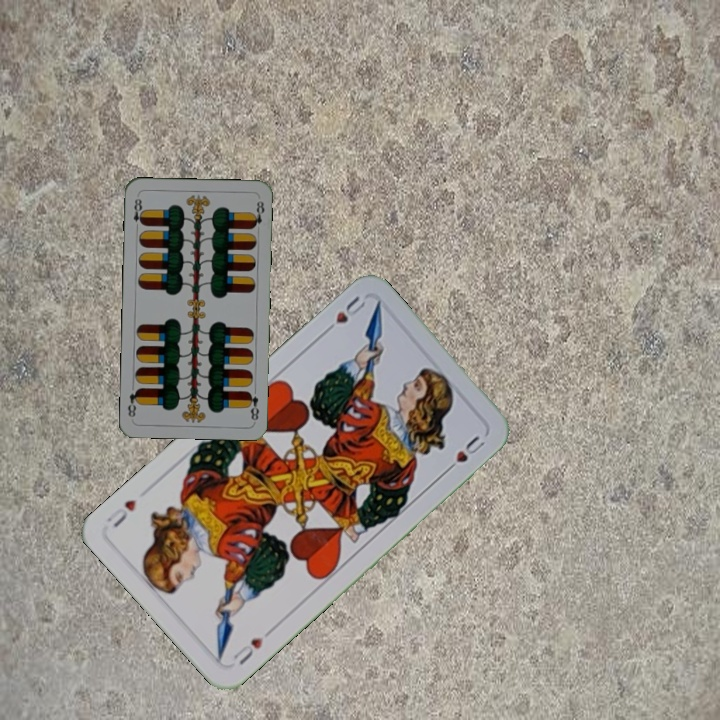E8: (129, 194, 147, 233), (243, 388, 262, 423)
HU: (319, 292, 370, 337), (229, 633, 266, 668)
